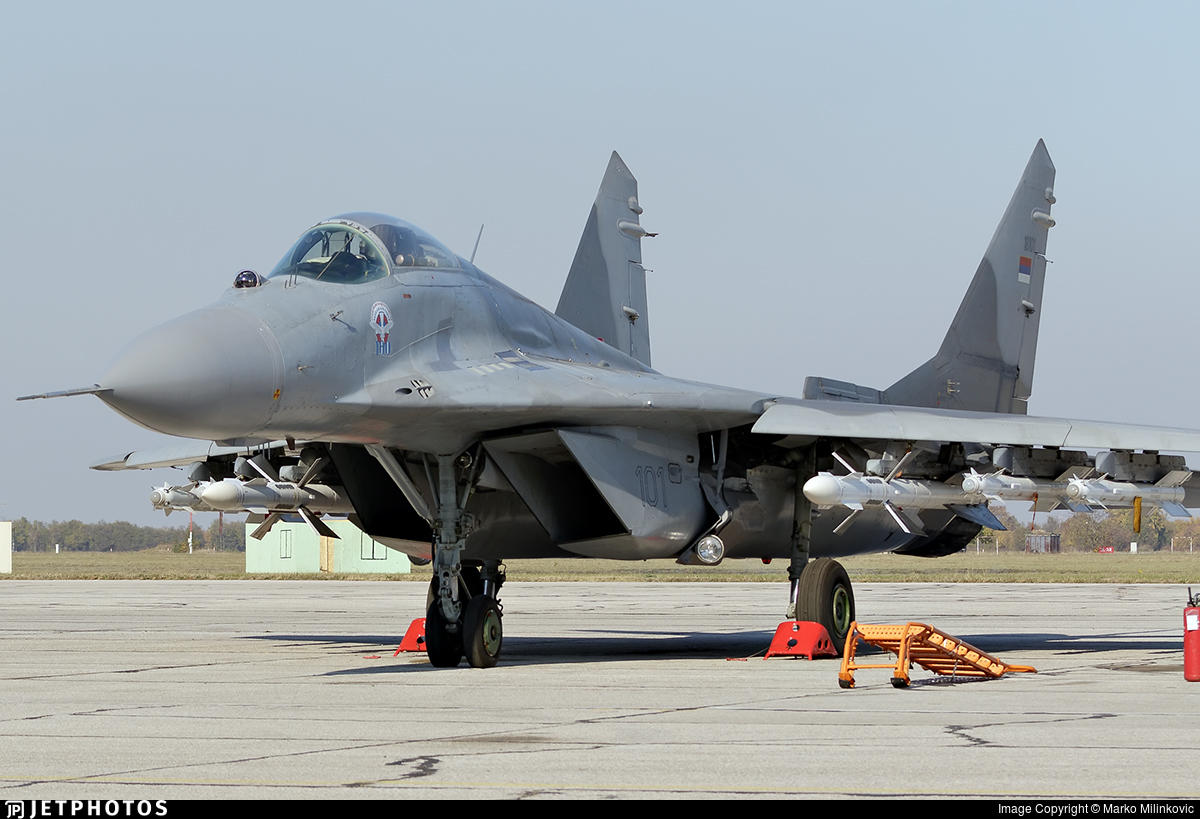Mig-29: (56, 109, 1138, 670)
